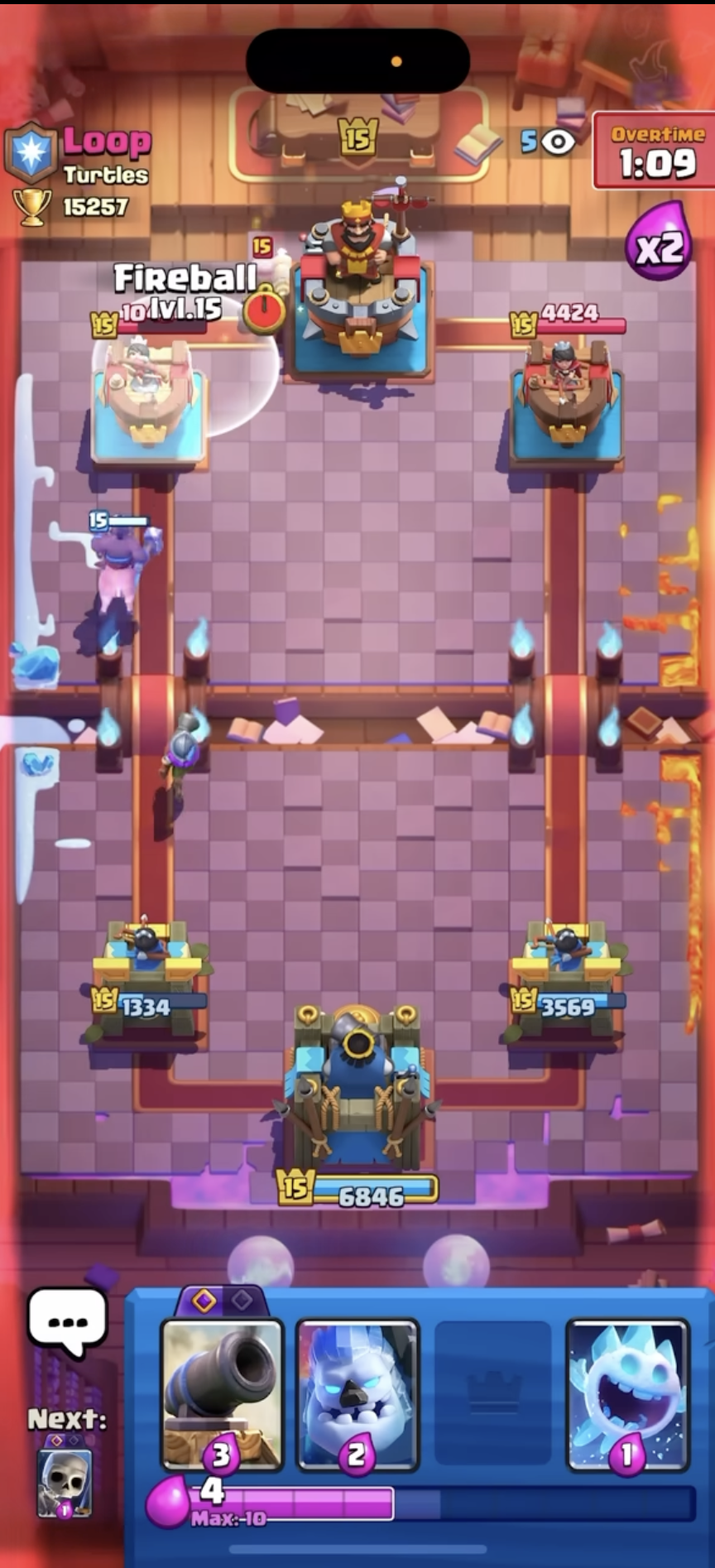hog-rider: (86, 498, 166, 619)
musketeer: (158, 705, 208, 794)
